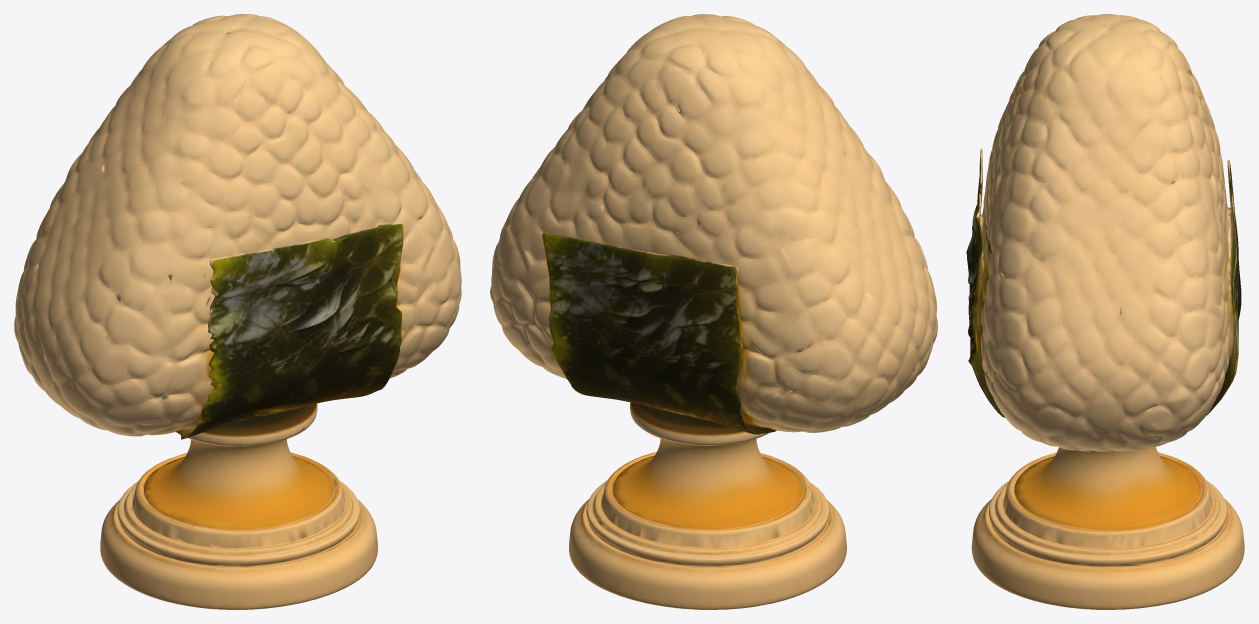
The model's file is onigiri-gold-trophy.glb.
3 views of the same model, side by side, from view 1: azimuth 30°, elevation 25°; view 2: azimuth 150°, elevation 25°; view 3: azimuth 270°, elevation 25° (orthographic).
Visible parts, largest first — view 1: node_0; view 2: node_0; view 3: node_0.
Boxes of the visible parts, box(x1,y1,x2,y2) form: node_0: box(14, 14, 461, 609); node_0: box(490, 14, 937, 609); node_0: box(966, 14, 1244, 609).
Size of the model in its own units: 0.8565 by 1.08 by 0.5214.
1 material, 1 textured.
